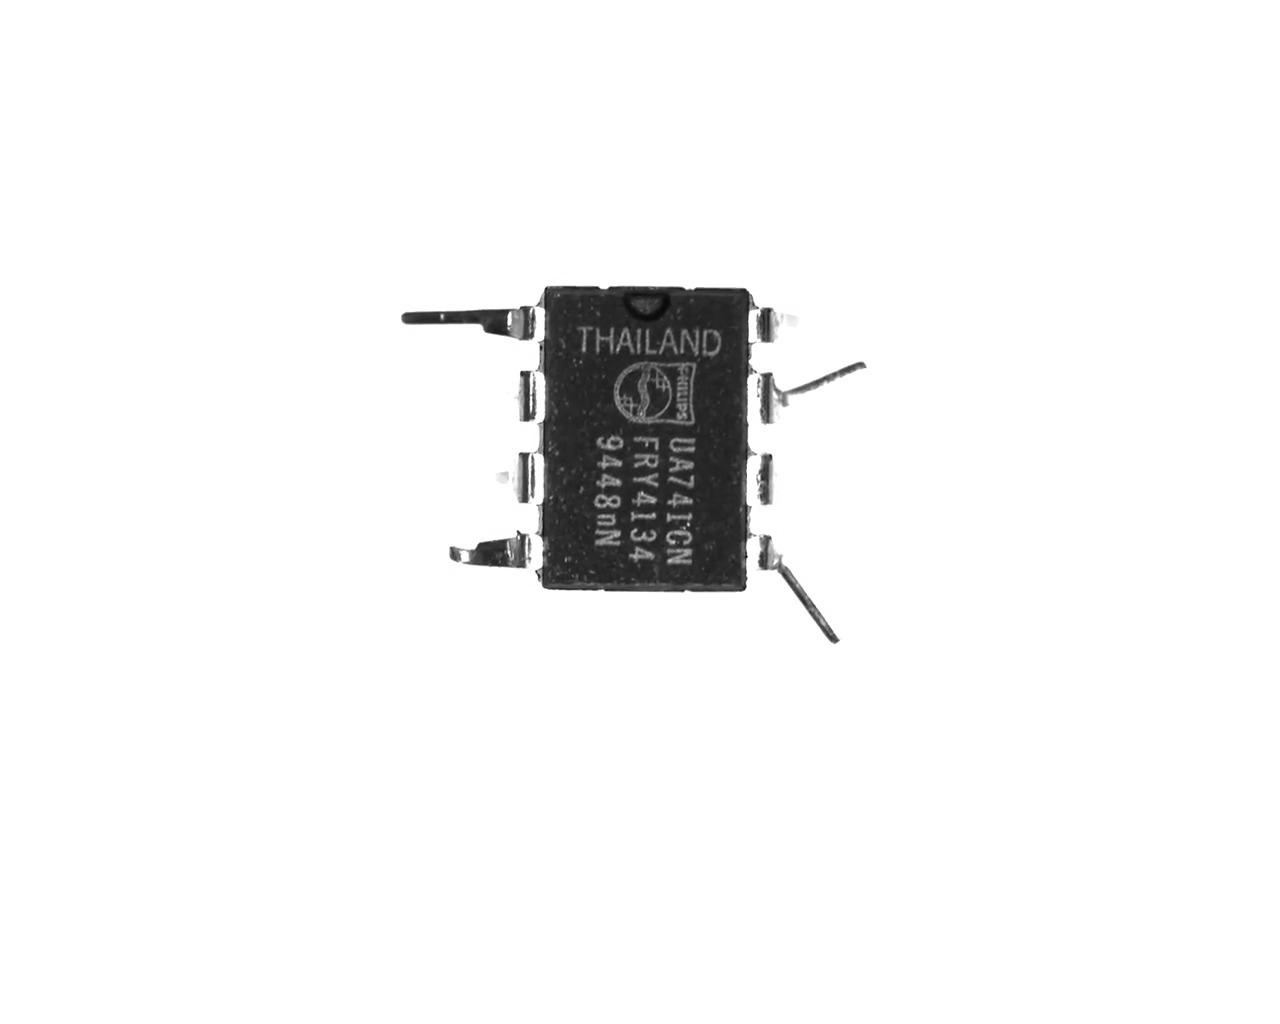Leg: (739, 526, 844, 647), (748, 362, 876, 423), (393, 301, 553, 349), (445, 530, 549, 576), (486, 447, 549, 509), (753, 301, 812, 351), (499, 366, 544, 427), (749, 448, 786, 516)
